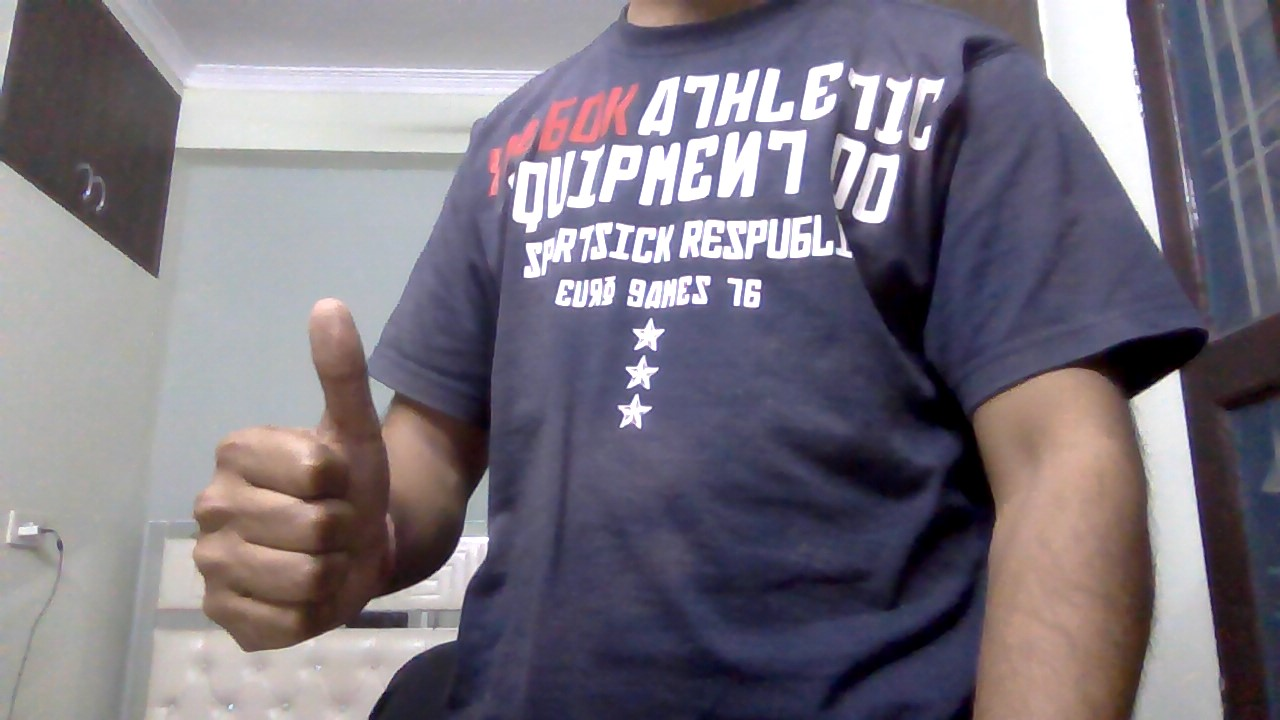Save: (174, 294, 410, 669)
